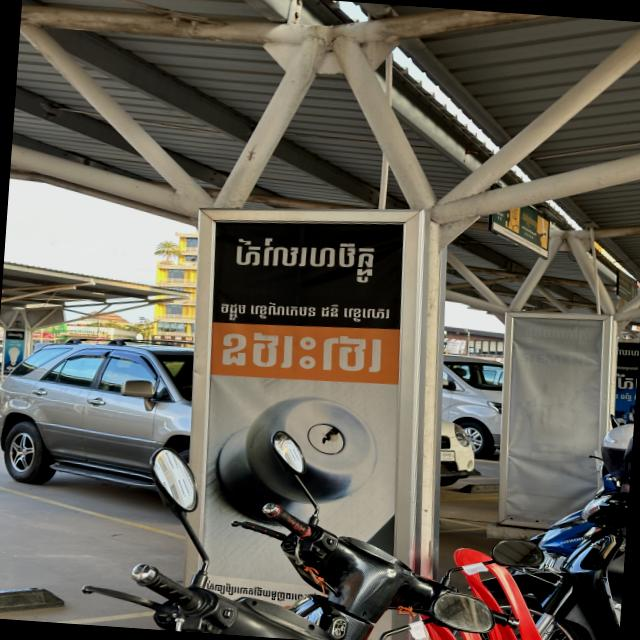1: (231, 231, 386, 288)
3: (213, 296, 394, 328)
Yolov11kh: (213, 326, 392, 379)
